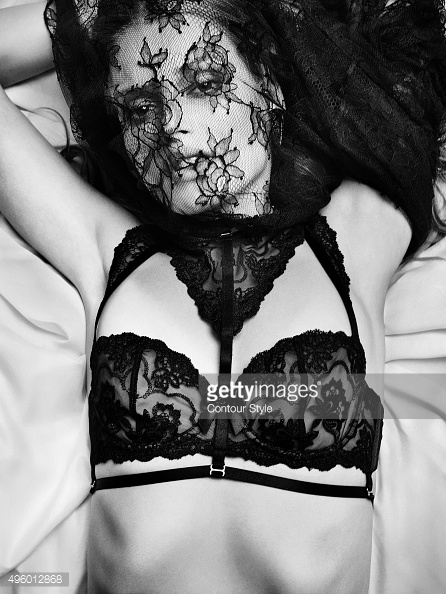deitado: (0, 0, 320, 581)
